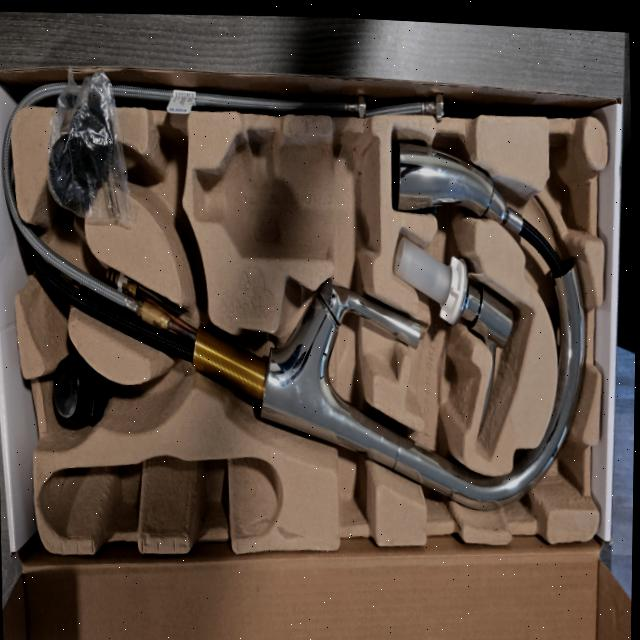1: (11, 140, 587, 511)
2: (391, 237, 514, 434)
3m: (190, 133, 380, 258)
4m: (36, 453, 282, 538)
5: (52, 353, 108, 428)
6m: (127, 126, 198, 274)
7: (46, 65, 133, 231)
